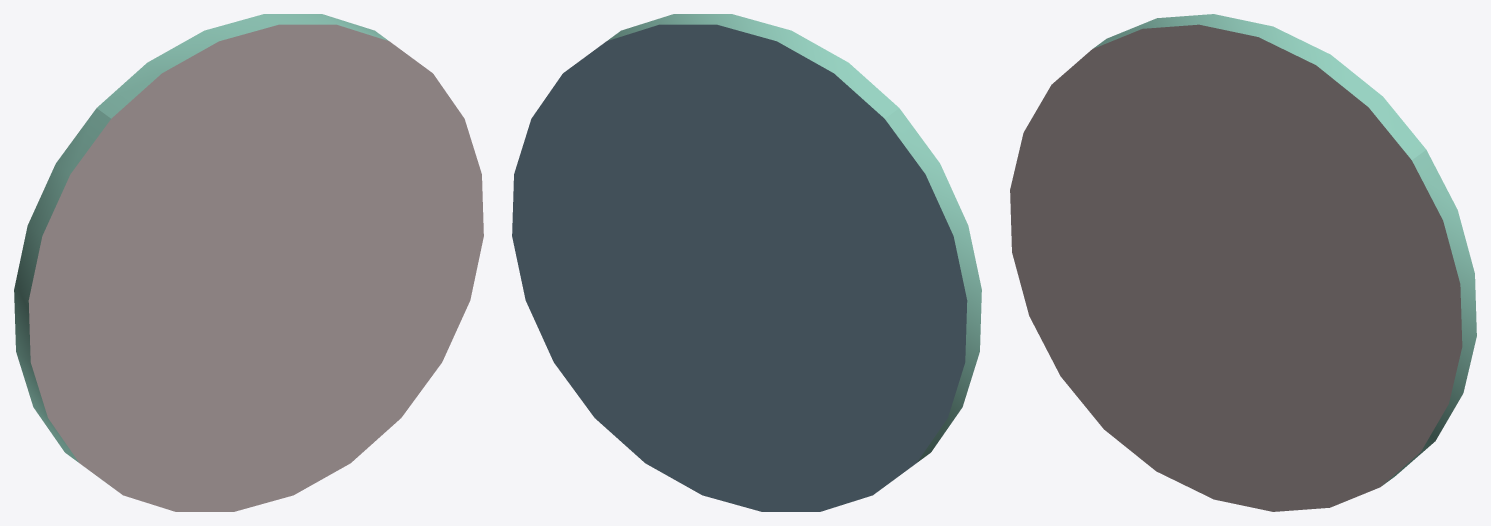
Rendered from module-timer-05.glb.
3 views of the same model, side by side, from view 1: azimuth 30°, elevation 25°; view 2: azimuth 150°, elevation 25°; view 3: azimuth 330°, elevation 25° (orthographic).
Size of the model in its own units: 1.79 by 1.79 by 0.1.
